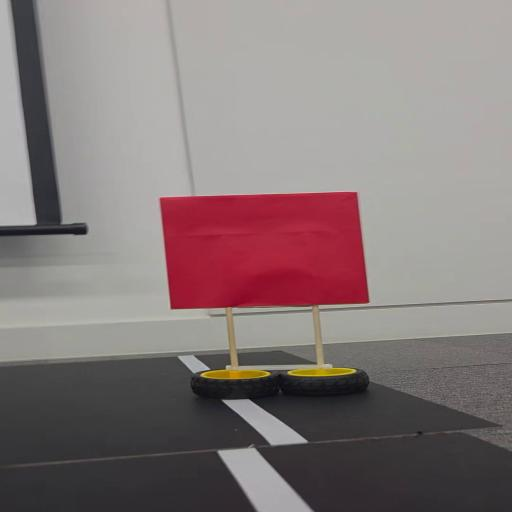Sign_A: (155, 188, 384, 398)
